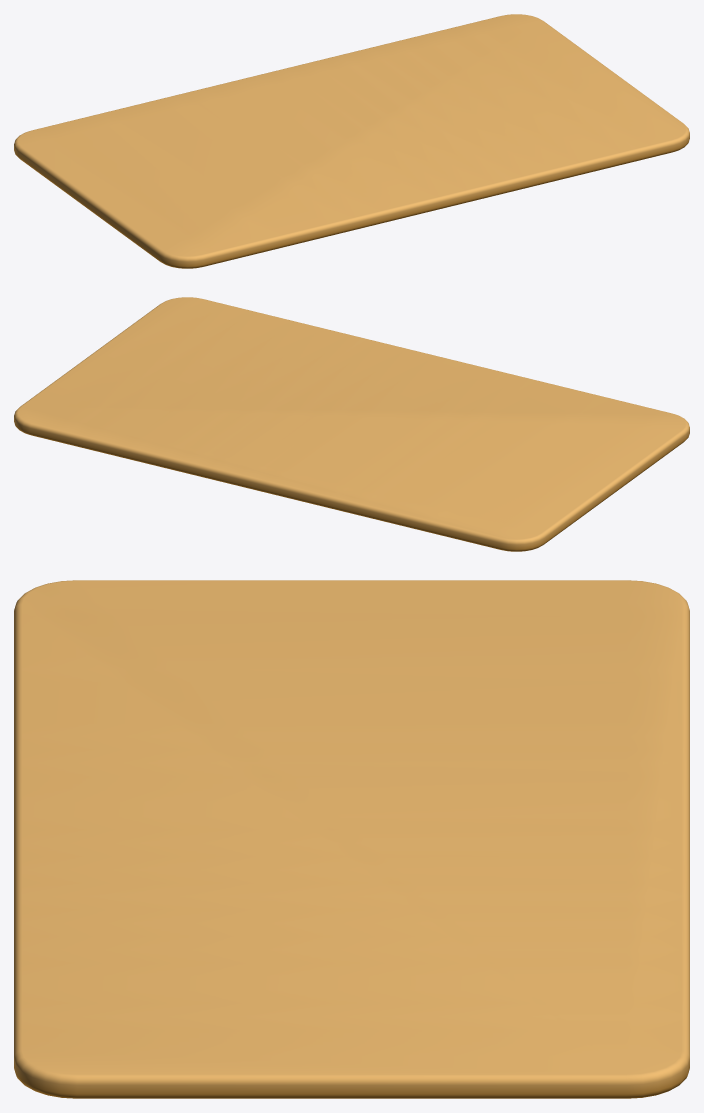
The model's file is woodboard.fbx.
3 views of the same model, one above another, from view 1: azimuth 30°, elevation 25°; view 2: azimuth 150°, elevation 25°; view 3: azimuth 270°, elevation 25° (orthographic). The views are drawn at different scales.
Visible parts, largest first — view 1: Cube.004; view 2: Cube.004; view 3: Cube.004.
Part boxes in pixels (<box>): Cube.004: <box>14,14,689,268</box>; Cube.004: <box>14,297,689,551</box>; Cube.004: <box>14,580,689,1098</box>.
Bounding box in the file's own units: 101 × 2.23 × 57.87.
1 material, 1 textured.
